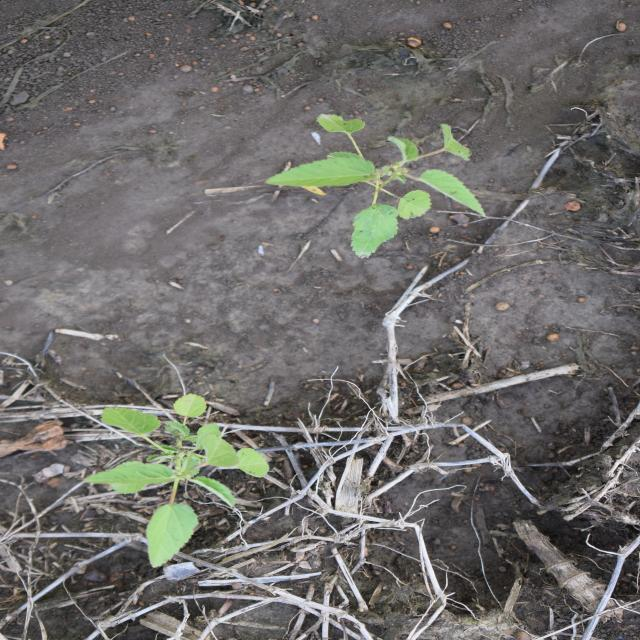PricklySida: (260, 110, 493, 260), (78, 392, 272, 569)
